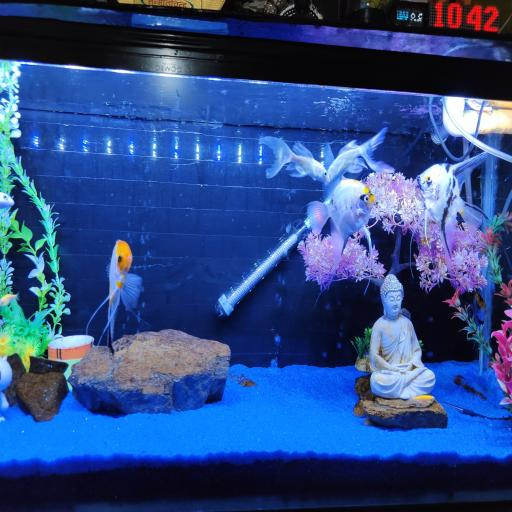Fish: (415, 152, 488, 271), (260, 128, 394, 183), (308, 179, 374, 277), (87, 240, 142, 347), (328, 128, 395, 182), (260, 137, 328, 183), (472, 290, 485, 324), (409, 396, 434, 406), (0, 294, 18, 306), (0, 193, 14, 208)
